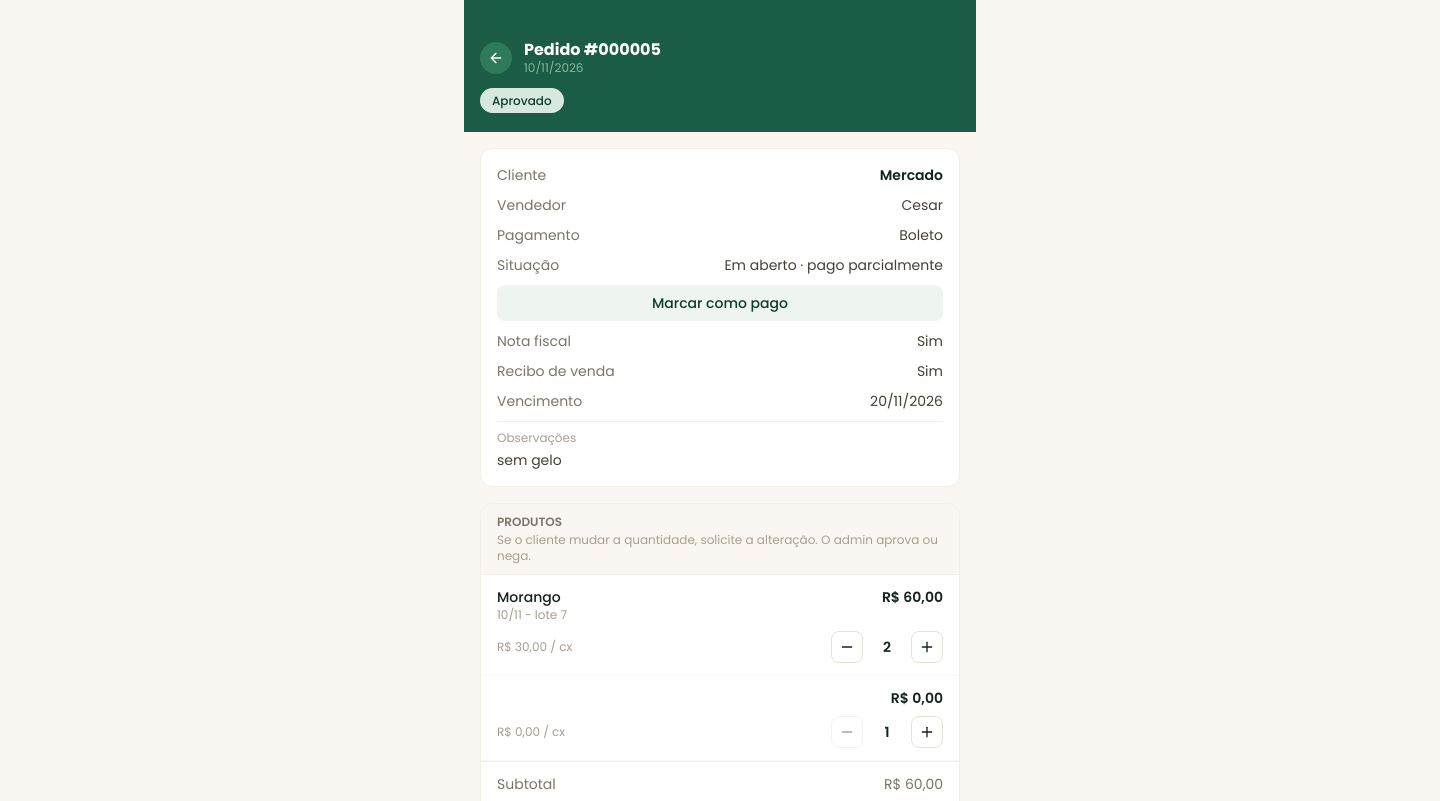
Test: detalhe do pedido › pagar: forma antiga obriga escolher, erro da API e situações
The width and height of the screenshot is (1440, 801).
Check: the text "Em aberto · pago parcialmente" is shown, box [724,255,943,275]
Click the button "Marcar como pago". click: (720, 303)
box: [497,285,943,321]
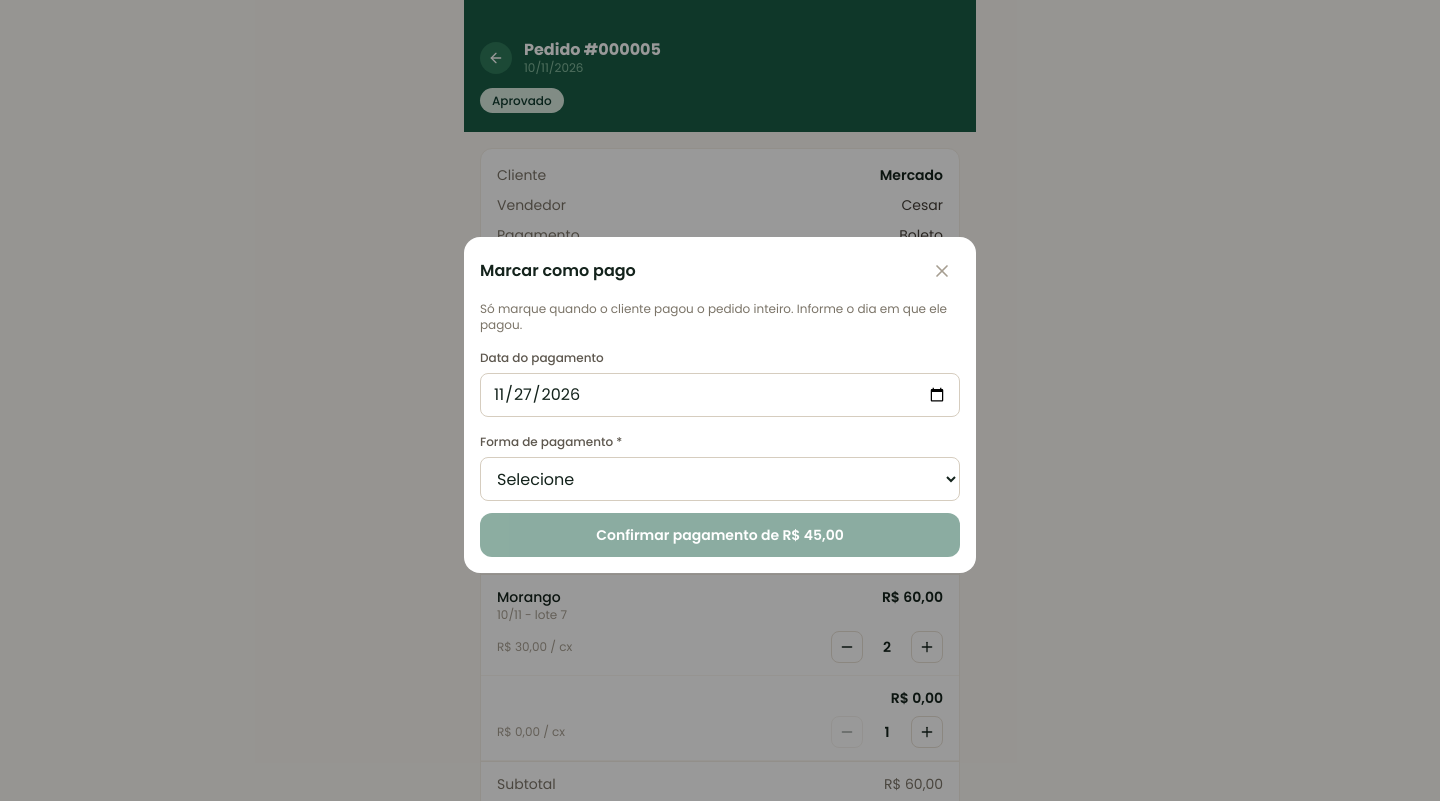
Check: the button "Confirmar pagamento de R$ 45,00" is disabled, box [480,513,960,557]
Select "Pix" in the dropdown. click: (720, 479)
box: [480,457,960,501]
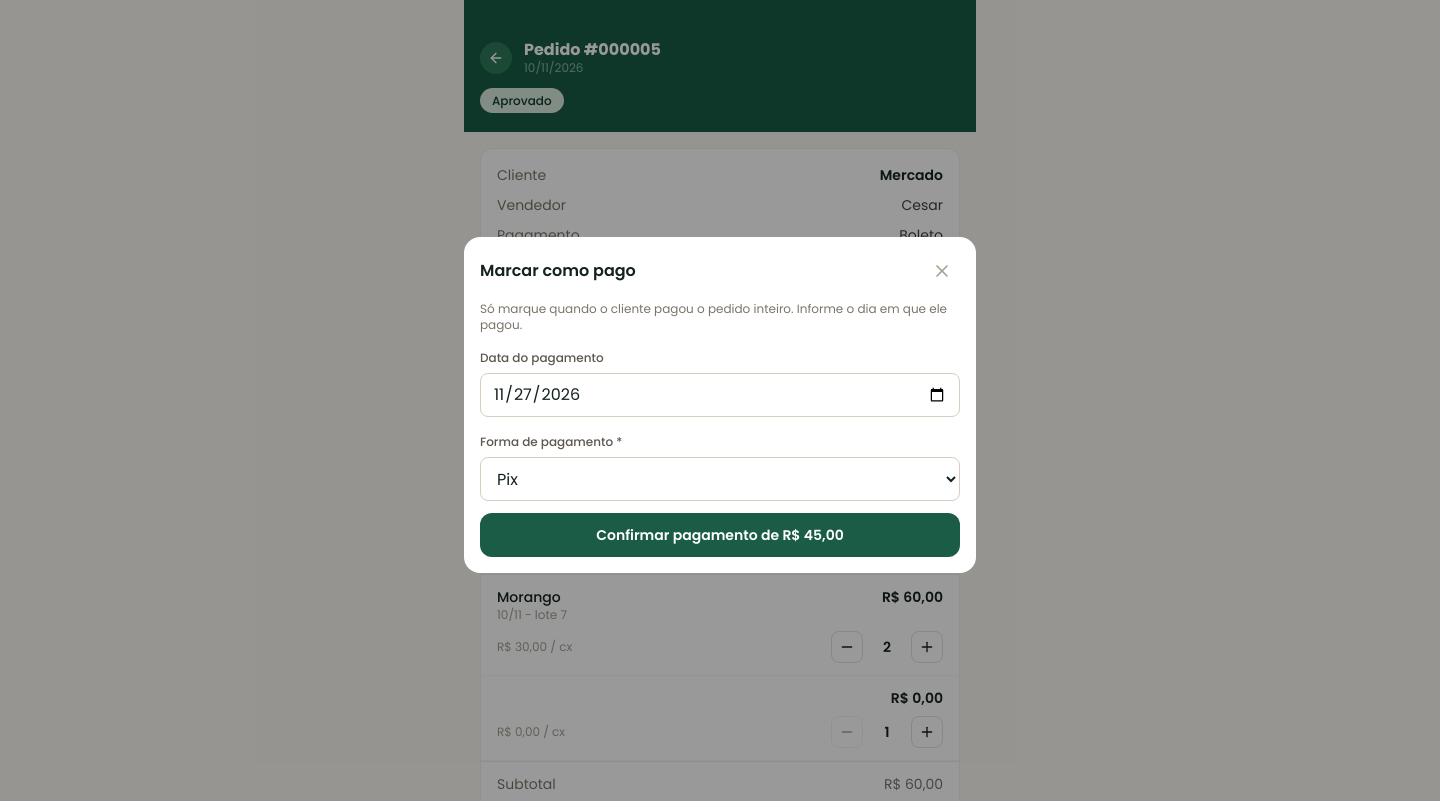
Click the button "Confirmar pagamento de R$ 45,00". click: (720, 535)
box: [480,513,960,557]
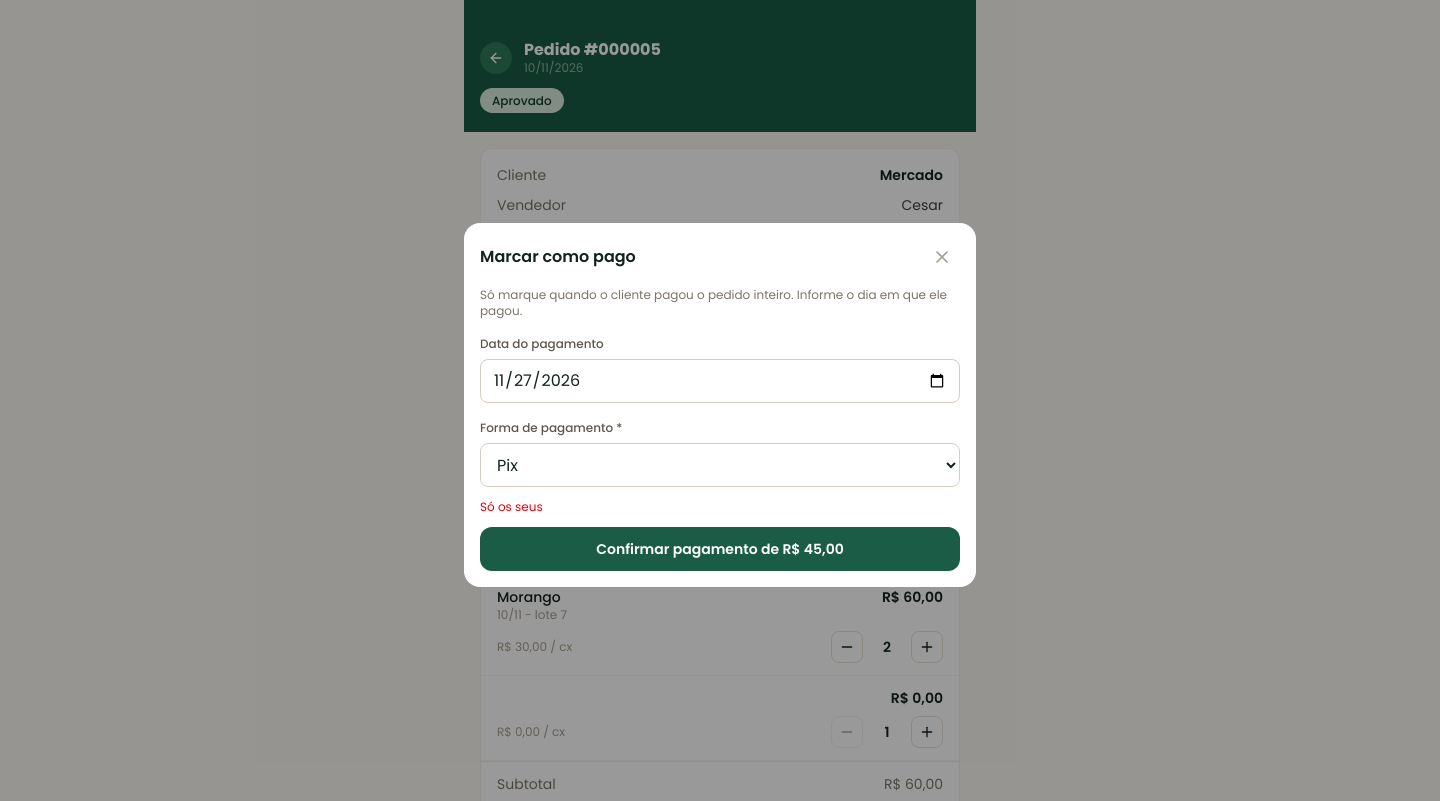
Check: the text "Só os seus" is shown, box [480,498,543,515]
Click the button "Confirmar pagamento de R$ 45,00". click: (720, 549)
box: [480,527,960,571]
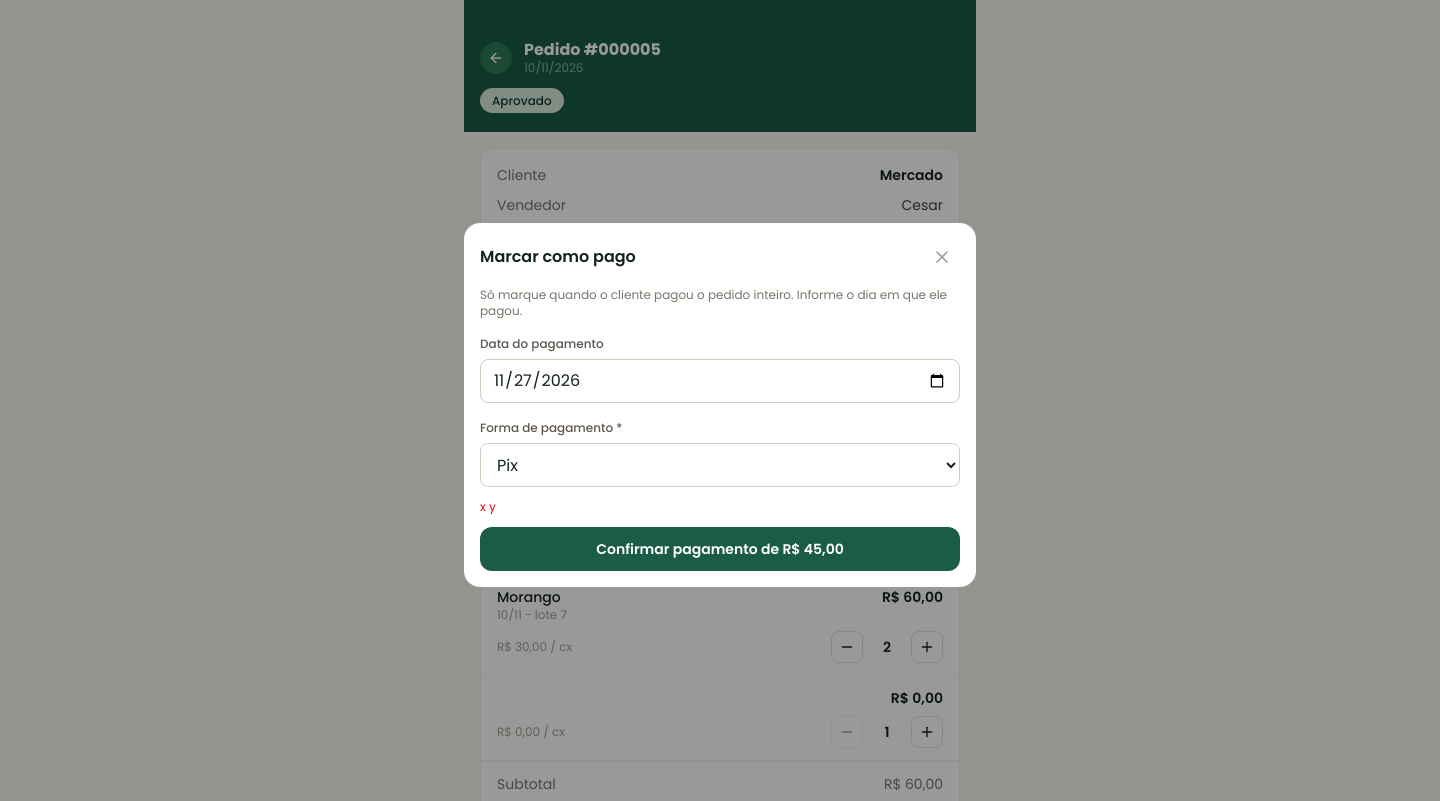
Check: the text "x y" is shown, box [480,498,496,515]
Click the button "Confirmar pagamento de R$ 45,00". click: (720, 549)
box: [480,527,960,571]
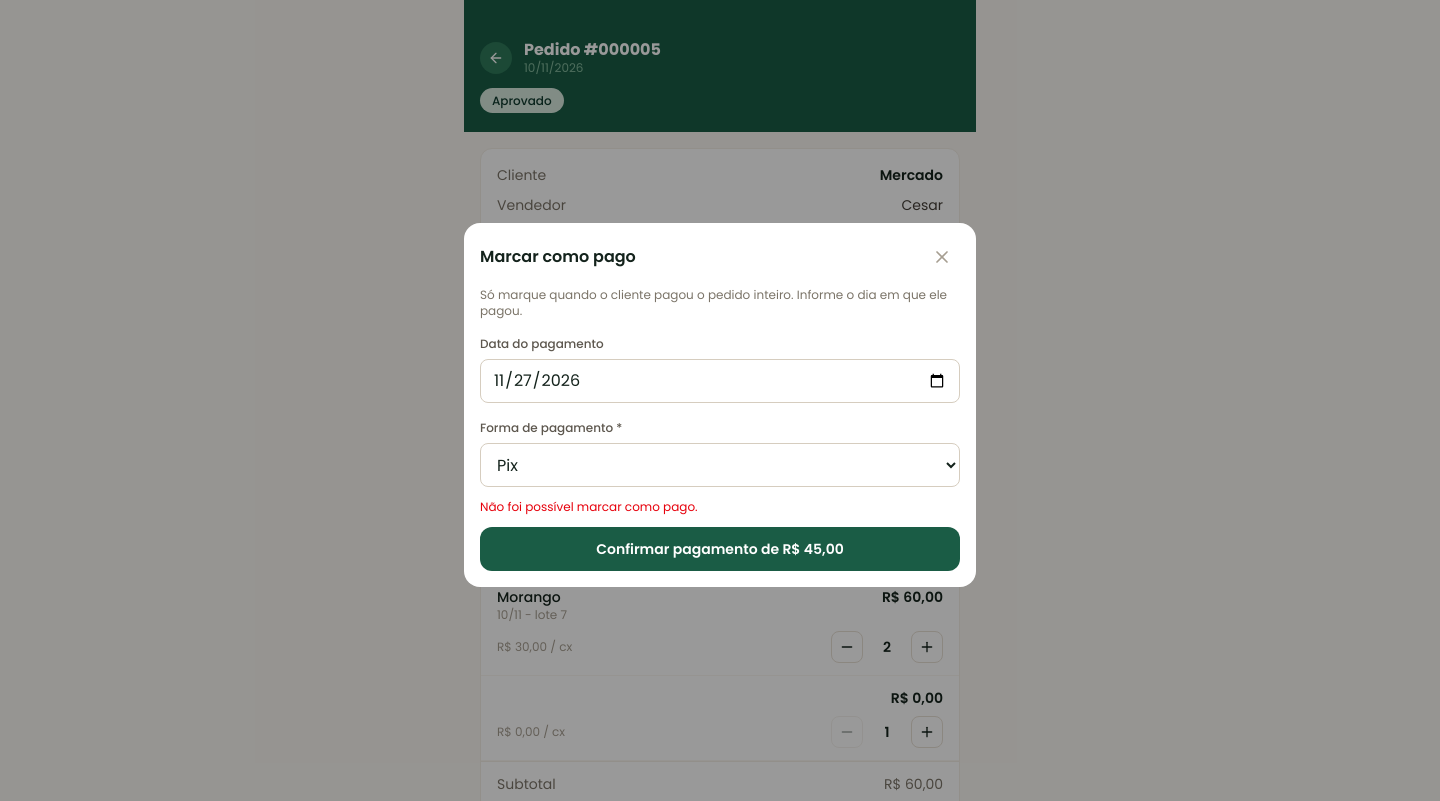
Check: the text "Não foi possível marcar como pago." is shown, box [480,498,698,515]
